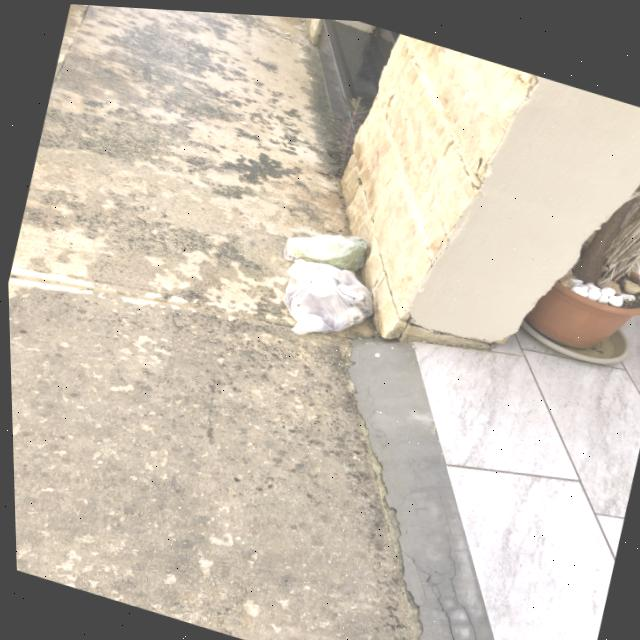Organic Waste -White Bag-: (270, 247, 379, 351), (273, 209, 374, 281)
